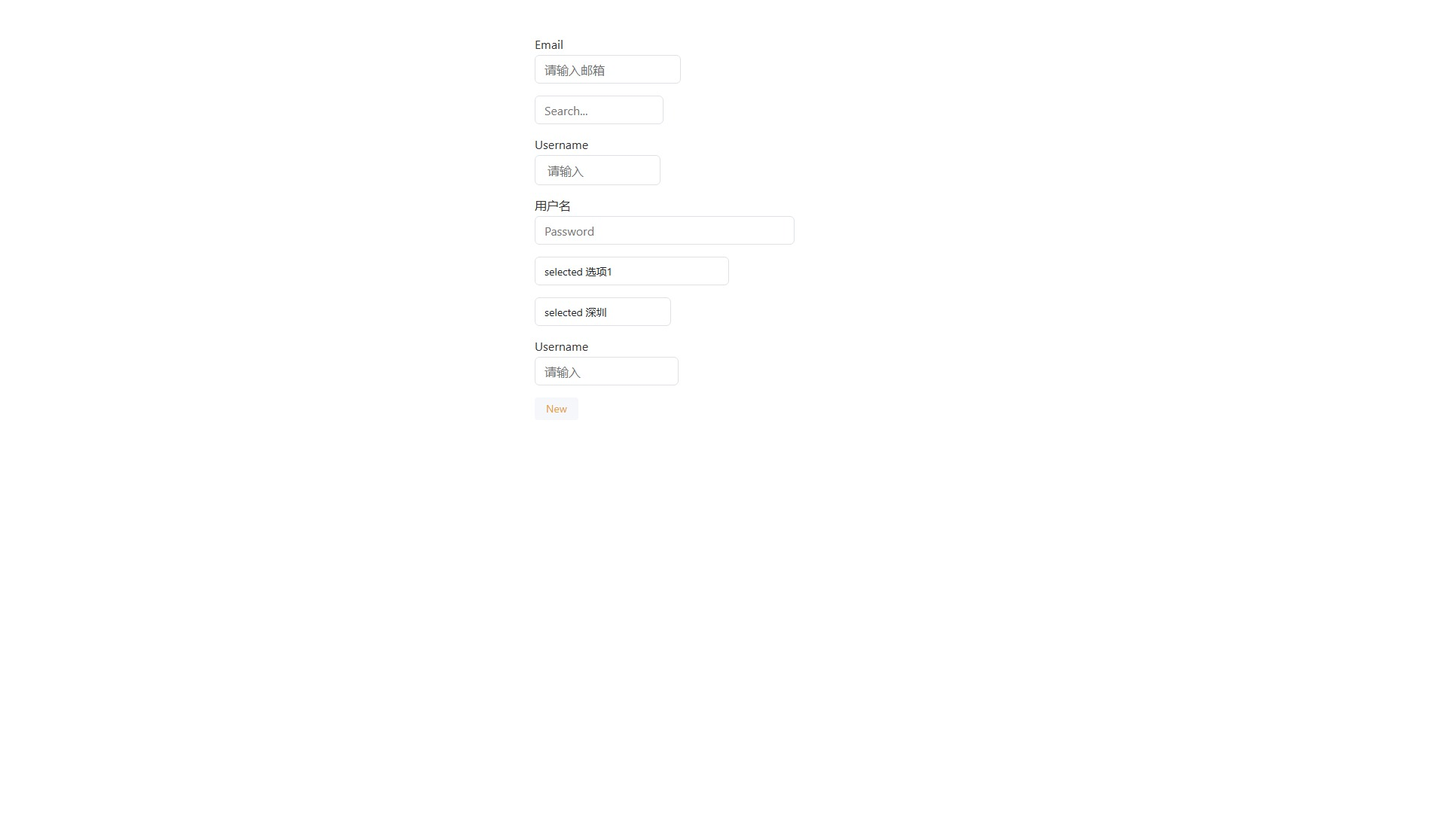button: (535, 397, 578, 420)
input: (535, 216, 795, 245), (535, 55, 681, 84), (535, 357, 679, 385), (535, 155, 660, 185), (535, 96, 664, 124)
select: (535, 257, 729, 285), (535, 297, 671, 326)
